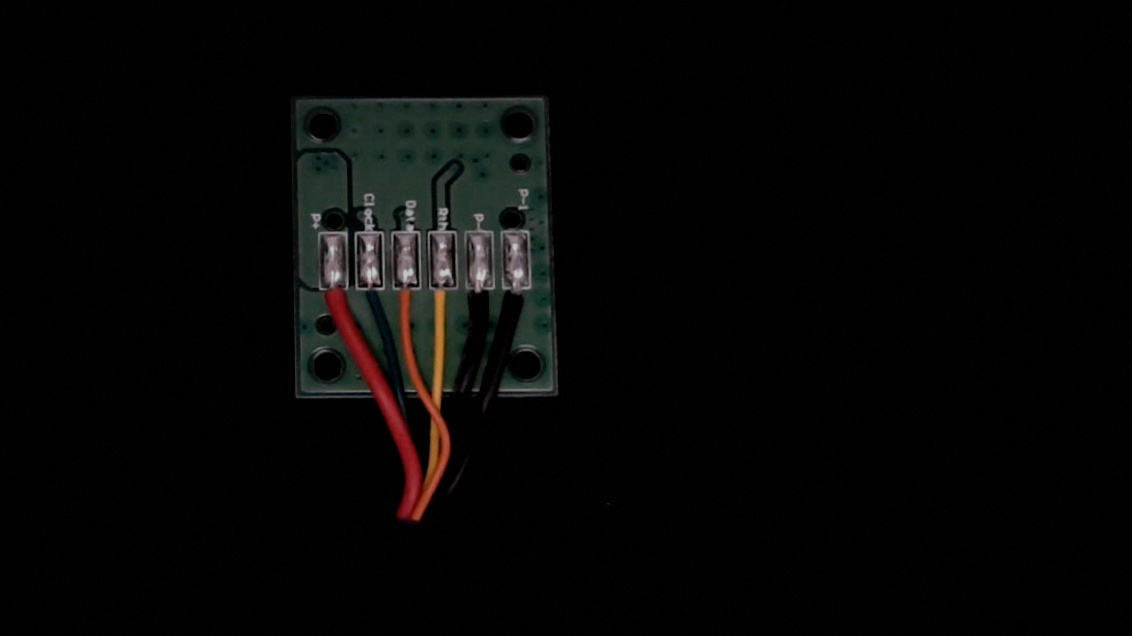Black: (466, 272, 495, 334)
Black1: (503, 273, 532, 328)
Green: (354, 273, 384, 329)
Orange: (392, 273, 420, 330)
Red: (320, 277, 350, 340)
Yellow: (430, 271, 457, 336)
